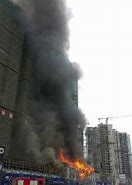smoke: (12, 1, 87, 155)
